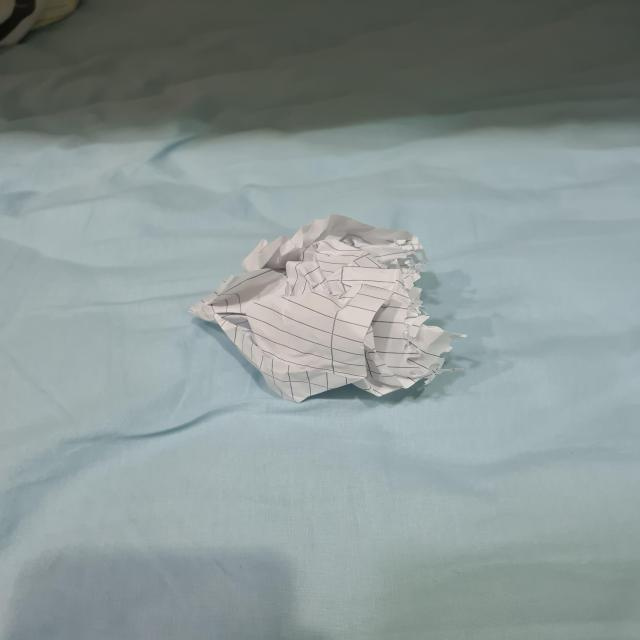trash: (208, 218, 448, 402)
